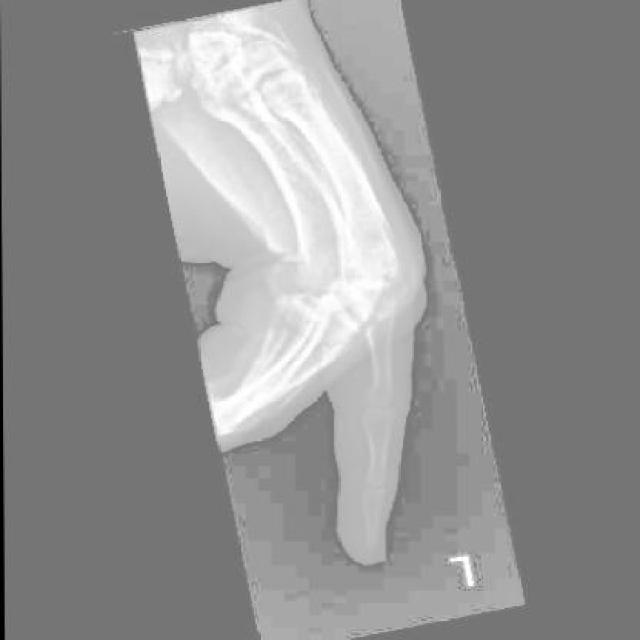Fracture: (357, 402, 376, 425)
